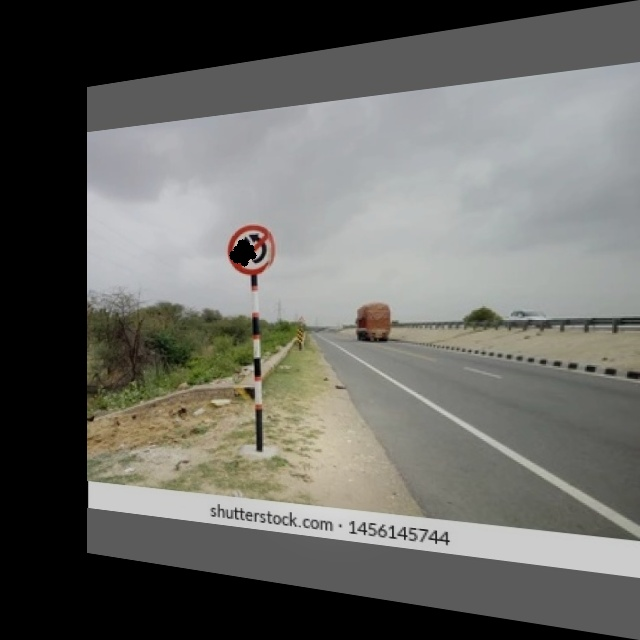Overtaking_Prohibited: (228, 224, 277, 278)
